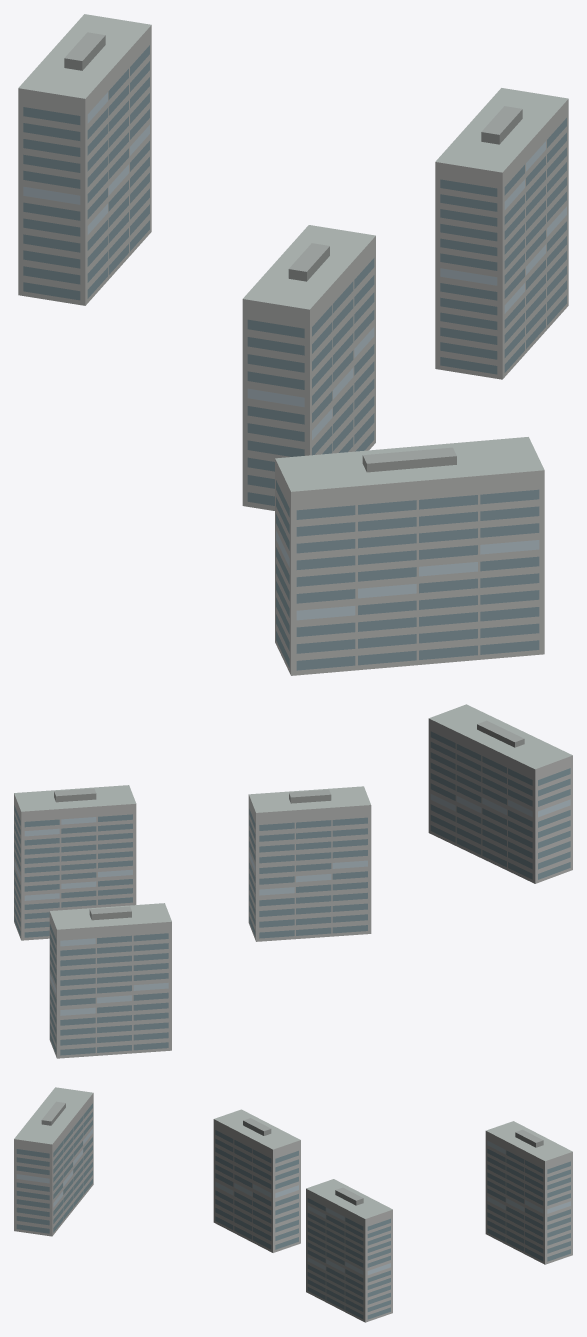
The model's file is apt-a15786426.glb.
3 renders of one model, top to bottom at view 1: azimuth 30°, elevation 25°; view 2: azimuth 150°, elevation 25°; view 3: azimuth 270°, elevation 25°, orthographic. The views are drawn at different scales.
Visible parts, largest first — view 1: apt-a15786426; view 2: apt-a15786426; view 3: apt-a15786426.
Part boxes in pixels (x1,y1,x2,y2): apt-a15786426: (18,14,568,675); apt-a15786426: (14,704,572,1058); apt-a15786426: (14,1087,572,1322).
Size of the model in its own units: 102 by 36 by 168.
